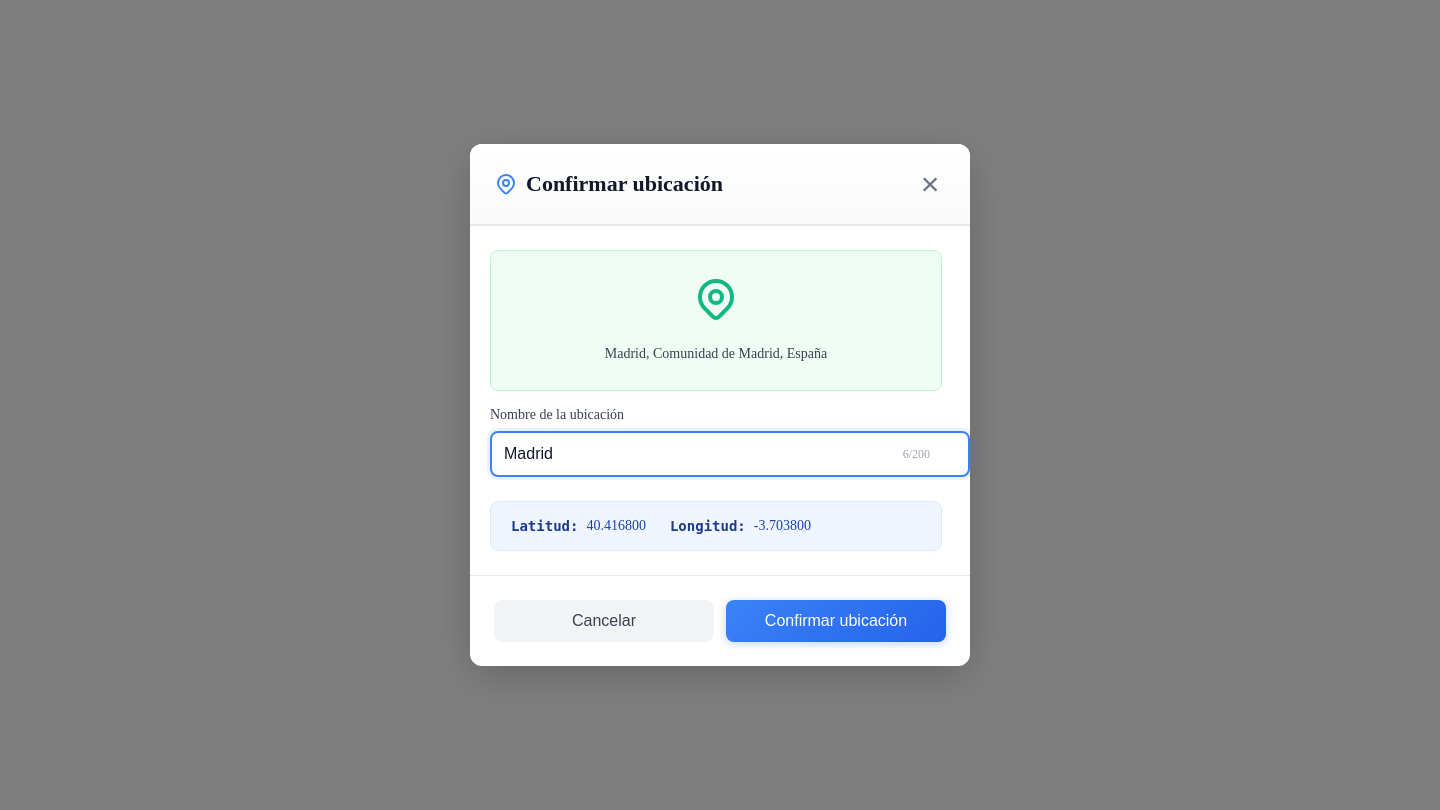
Test case: LocationConfirmModal - Name Editing (T035) › Name Input Field › should display character counter when user types
Expected: the text "6/200" is shown, [903, 447, 930, 462]
# Type longer name
Replace the text in the field labelled "Nombre de la ubicación" with "Un nombre mucho más largo" at (730, 454), box [490, 431, 970, 477]
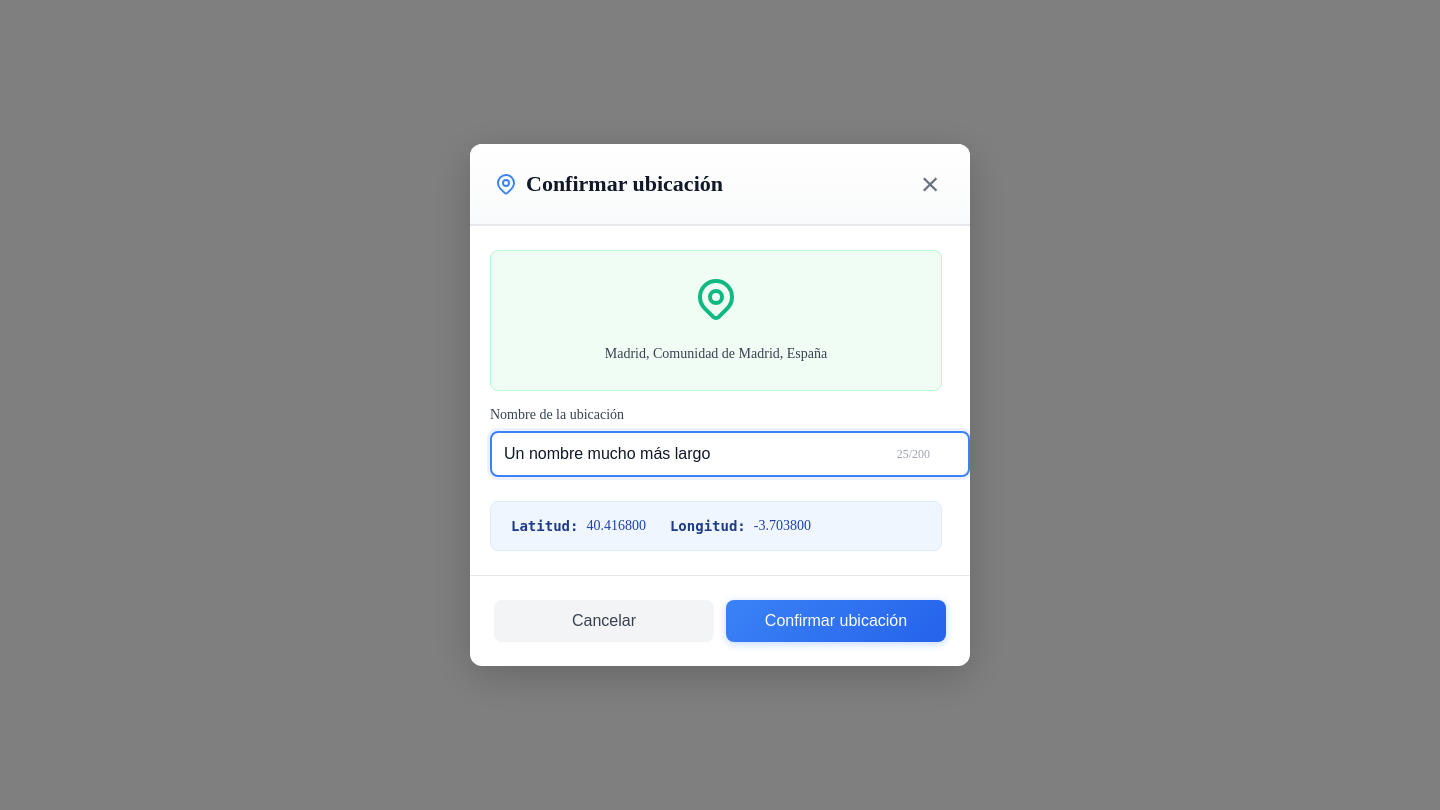
Result: the text "25/200" is shown at [897, 447, 930, 462]
